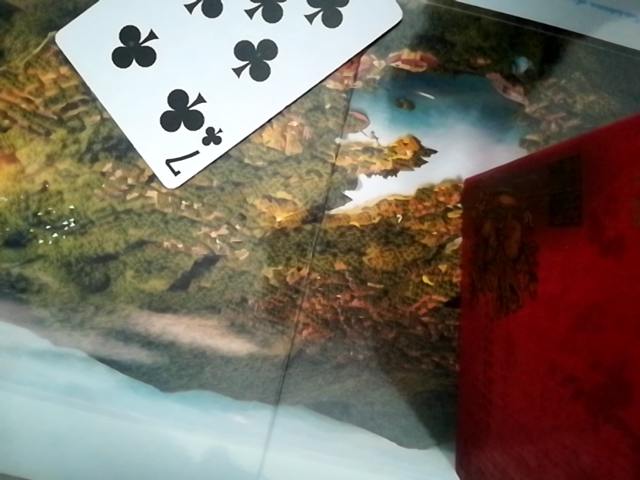mh 7: (52, 0, 404, 194)
